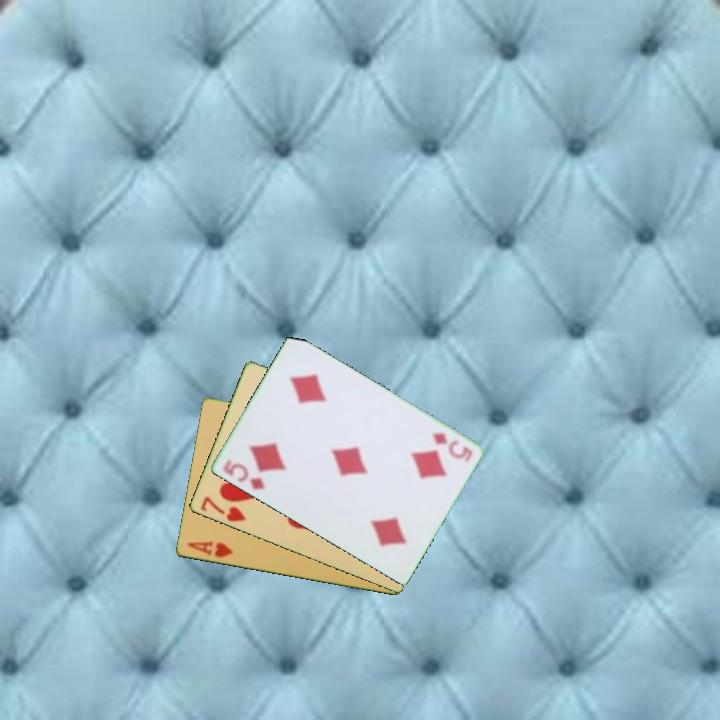5d: (219, 456, 268, 493), (427, 429, 475, 465)
7h: (197, 493, 248, 525)
Ah: (184, 537, 236, 561)
